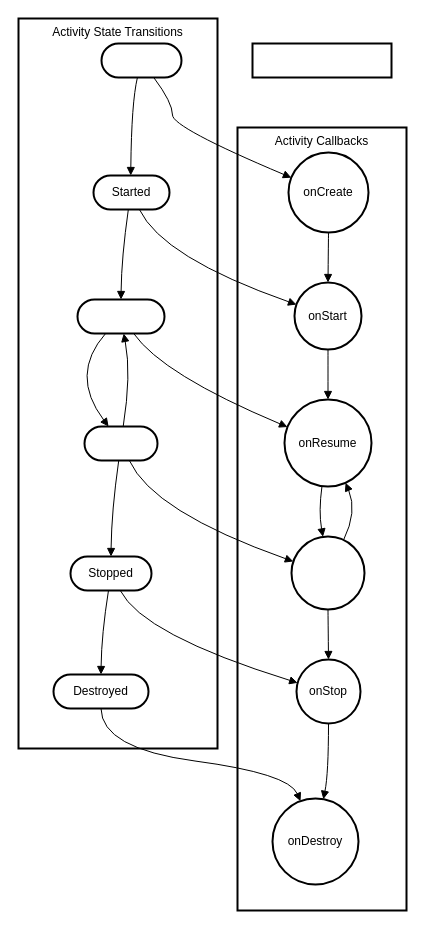
This 424x928 diagram has some shape labels left out. Each missing label, with the box of its shape:
Activity Lifecycle: (251, 42, 392, 78)
Created: (100, 42, 182, 78)
onPause: (290, 535, 365, 610)
Paused: (83, 425, 158, 461)
Resumed: (76, 298, 165, 334)
